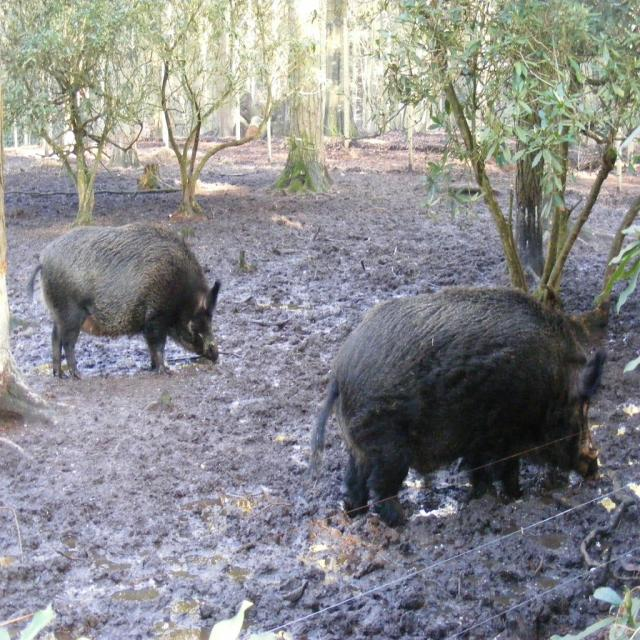Pig: (308, 284, 606, 528), (26, 221, 222, 381)
